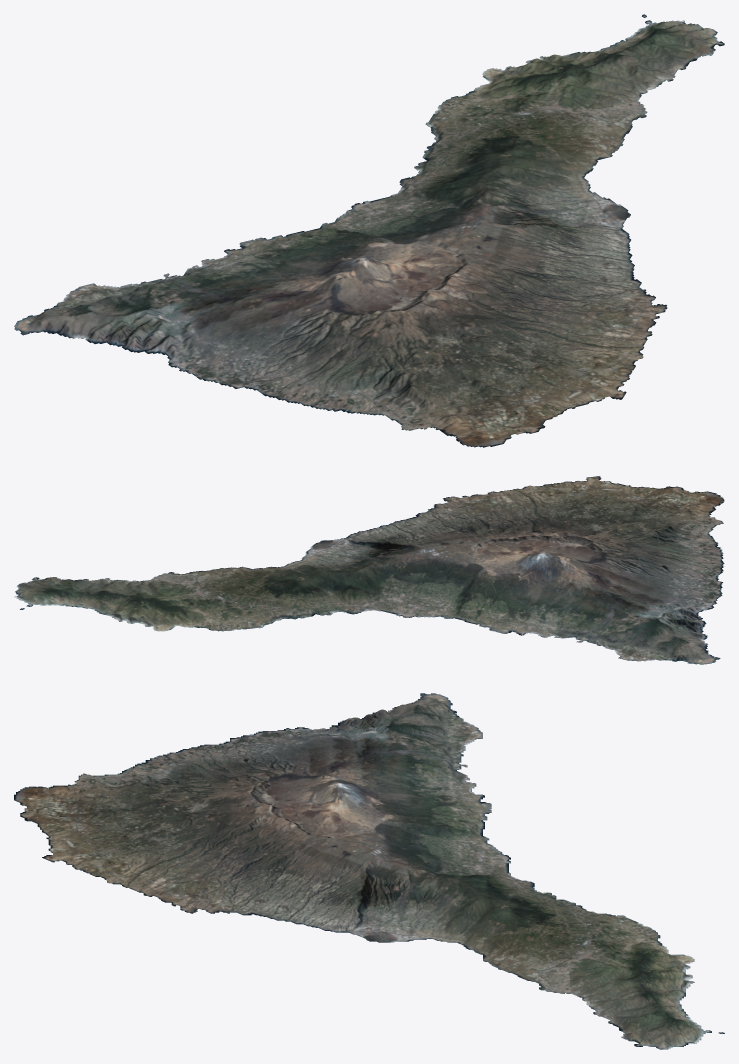
Rendered from tenerife-full-island-normalized.glb.
The picture shows the model from 3 angles, top to bottom: view 1: azimuth 30°, elevation 25°; view 2: azimuth 150°, elevation 25°; view 3: azimuth 270°, elevation 25°; orthographic projection. The views are drawn at different scales.
Visible parts, largest first — view 1: tenerife-full-island-terrain-tile-02, tenerife-full-island-terrain-tile-03, tenerife-full-island-terrain-tile-01, tenerife-full-island-terrain-tile-04; view 2: tenerife-full-island-terrain-tile-02, tenerife-full-island-terrain-tile-03, tenerife-full-island-terrain-tile-01, tenerife-full-island-terrain-tile-04; view 3: tenerife-full-island-terrain-tile-02, tenerife-full-island-terrain-tile-03, tenerife-full-island-terrain-tile-01, tenerife-full-island-terrain-tile-04.
Boxes of the visible parts, x1,y1,x2,y2 form: tenerife-full-island-terrain-tile-02: (199, 193, 633, 447); tenerife-full-island-terrain-tile-03: (398, 64, 667, 368); tenerife-full-island-terrain-tile-01: (14, 265, 417, 430); tenerife-full-island-terrain-tile-04: (526, 14, 724, 140); tenerife-full-island-terrain-tile-02: (375, 476, 724, 637); tenerife-full-island-terrain-tile-03: (140, 484, 548, 631); tenerife-full-island-terrain-tile-01: (554, 519, 724, 664); tenerife-full-island-terrain-tile-04: (14, 569, 213, 623); tenerife-full-island-terrain-tile-02: (14, 761, 510, 875); tenerife-full-island-terrain-tile-03: (92, 852, 694, 971); tenerife-full-island-terrain-tile-01: (78, 693, 482, 780); tenerife-full-island-terrain-tile-04: (507, 963, 724, 1049).
Size of the model in its own units: 79449 by 3653 by 67022.
1 material, 1 textured.
